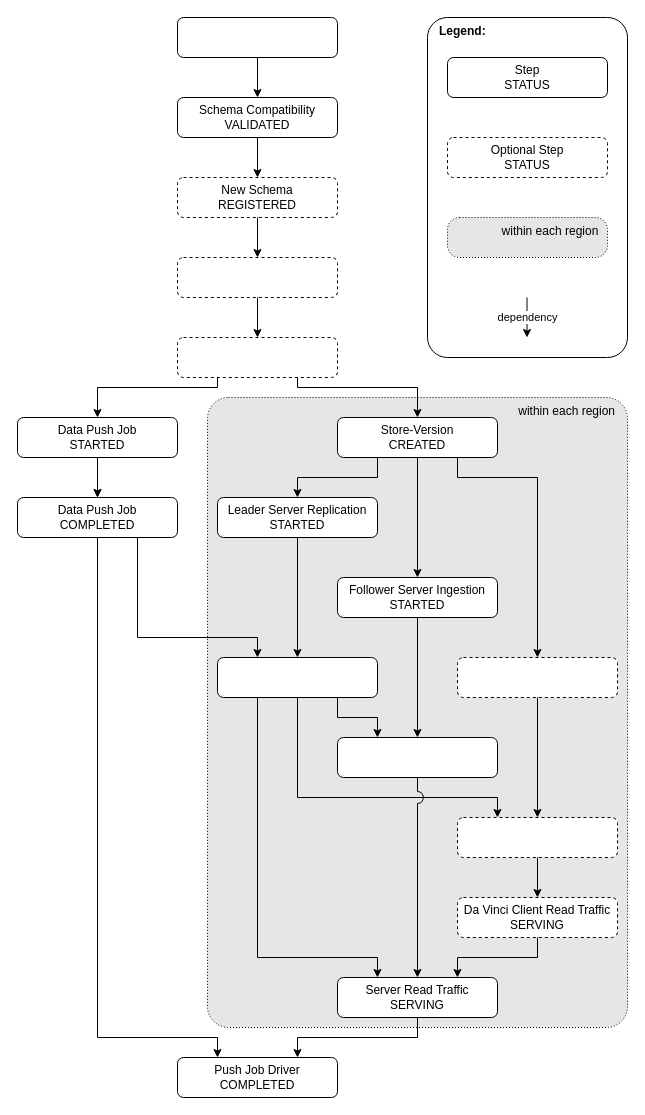
This 645x1115 diagram has some shape labels left out. Here are the shapes that lost their labels. From the top down, the centre of each, then its label:
At (x=257, y=37): "Push Job Driver STARTED".
At (x=257, y=277): "Compression Dictionary Job STARTED".
At (x=257, y=357): "Compression Dictionary Job COMPLETED".
At (x=297, y=677): "Leader Server Replication COMPLETED".
At (x=537, y=677): "Da Vinci Client Ingestion STARTED".
At (x=417, y=757): "Follower Server Ingestion COMPLETED".
At (x=537, y=837): "Da Vinci Client Ingestion COMPLETED".
